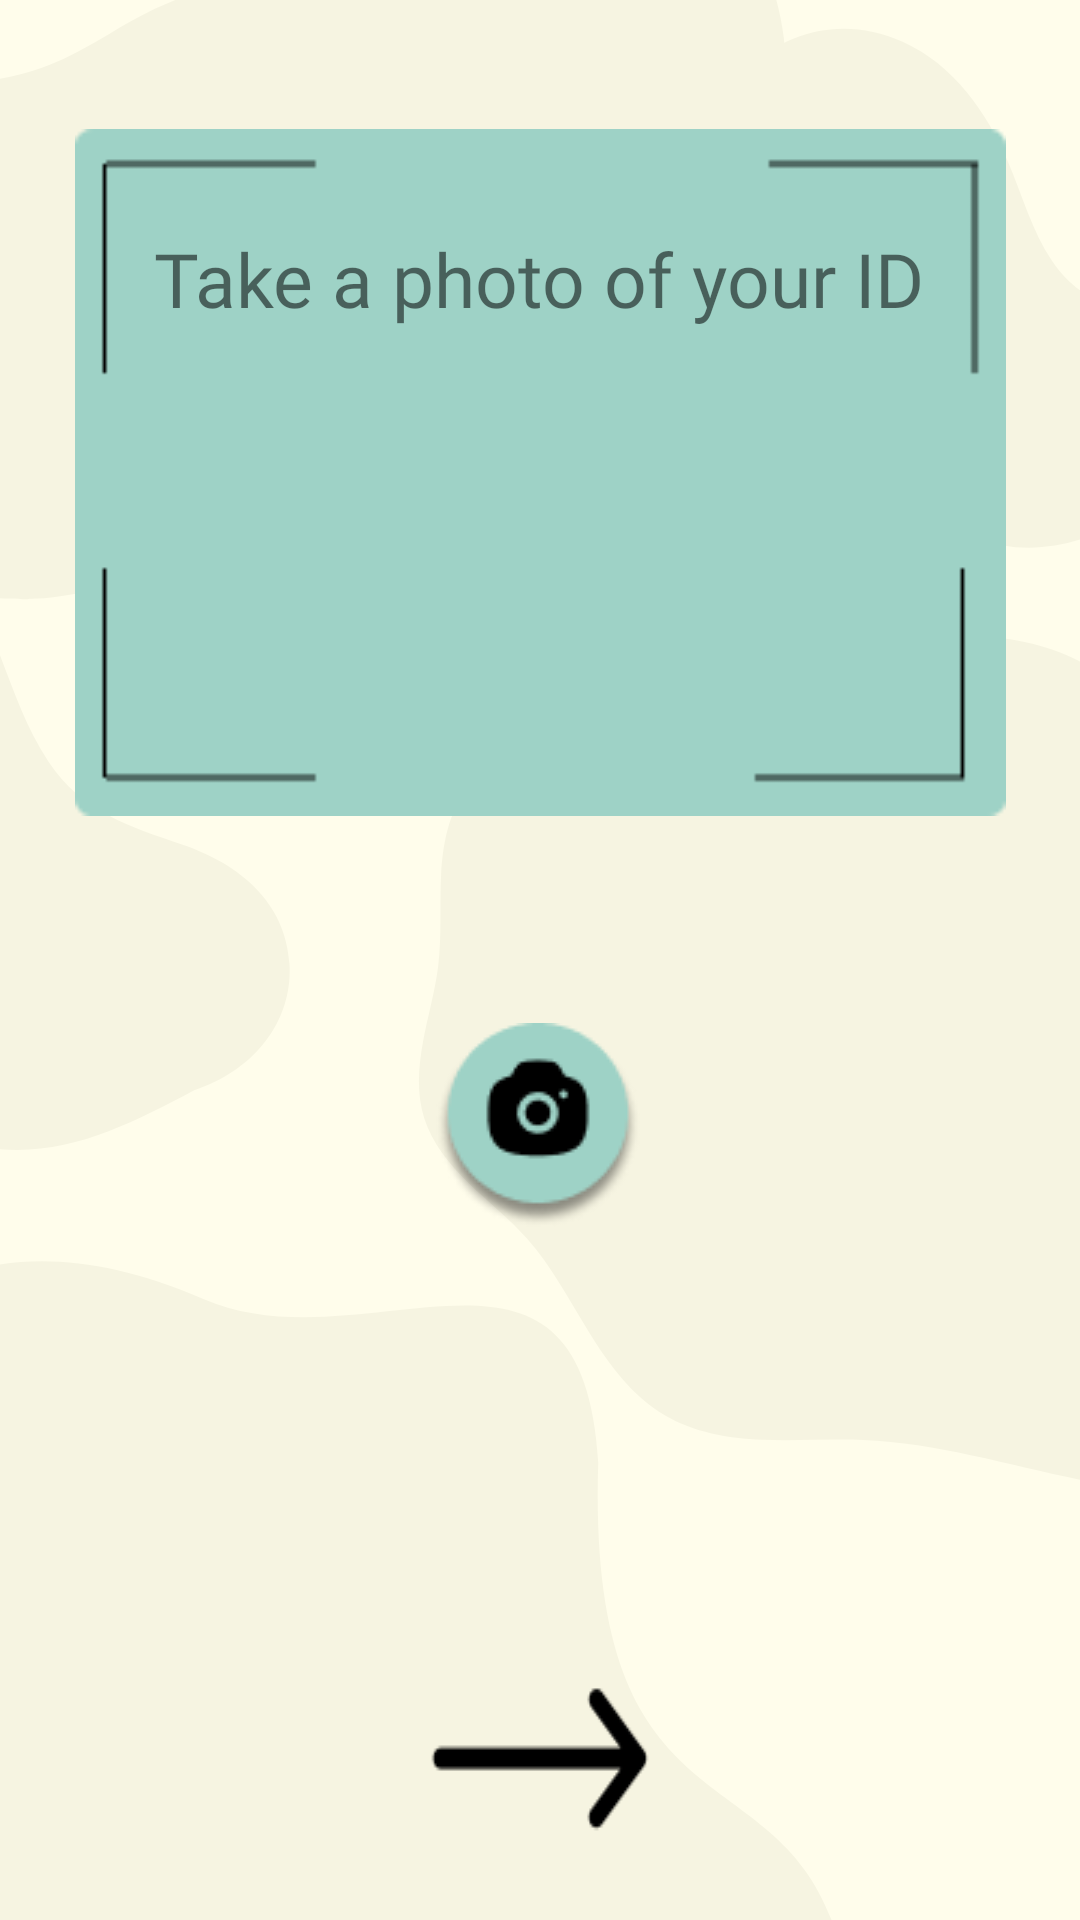

Screen size 1080w x 1920h. Icon name, then its center in pixels as (x,y):
take photo: (538,1121)
